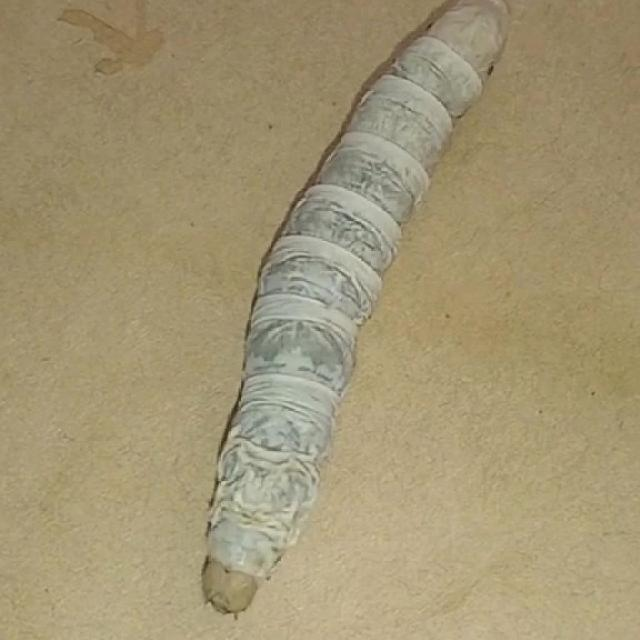Grasserie: (185, 1, 521, 635)
